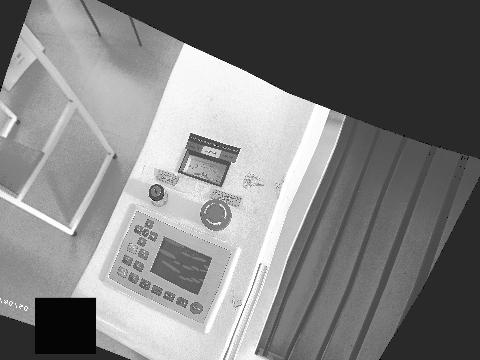Amp_Meter: (180, 154, 226, 184)
Display: (150, 238, 212, 294)
Down_button: (137, 237, 147, 247)
Emergency_Stop: (200, 199, 232, 231)
Enter_button: (127, 243, 138, 254)
Esc_button: (138, 249, 149, 260)
File_button: (128, 272, 139, 284)
Frame_button: (122, 255, 133, 266)
Left_button: (149, 232, 158, 242)
Max-Power_button: (139, 279, 151, 290)
Min-Power_button: (151, 285, 163, 296)
Origin_button: (133, 261, 144, 272)
Power_switch: (149, 184, 168, 206)
Pulse_button: (176, 297, 188, 308)
Reset_button: (190, 302, 203, 314)
Right_button: (133, 225, 142, 234)
Speed_button: (163, 291, 175, 302)
Start-Pause_button: (117, 266, 128, 278)
Up_button: (145, 219, 154, 229)
Z_U_button: (142, 229, 150, 237)
